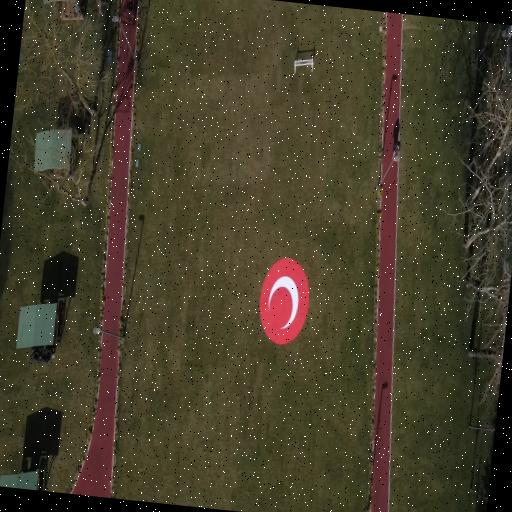UAI: (260, 258, 309, 344)
person: (125, 0, 134, 21), (393, 140, 400, 152)
